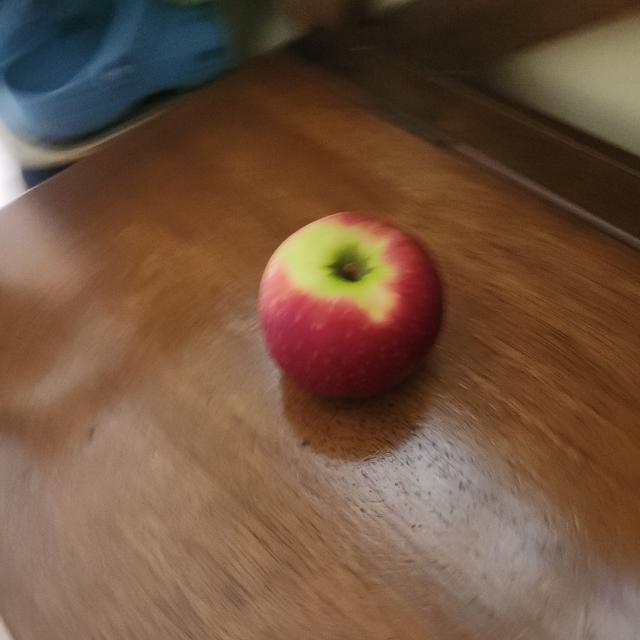apple: (256, 204, 452, 412)
